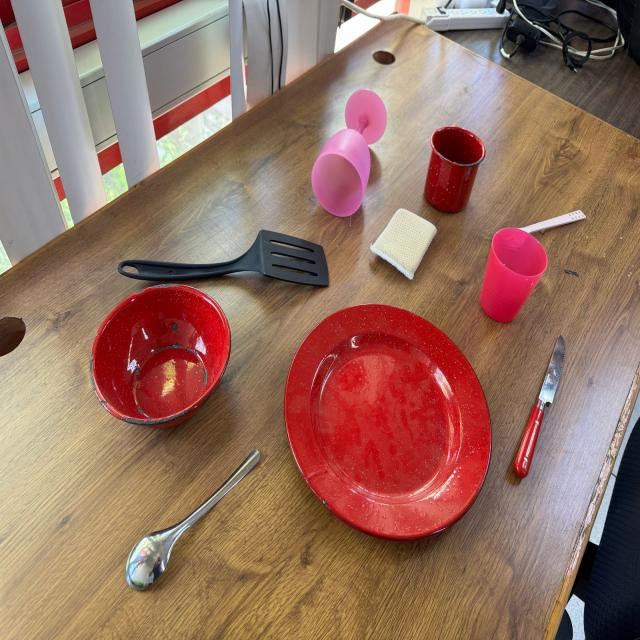cup: (424, 124, 486, 215)
fork: (510, 210, 587, 239)
glass: (479, 227, 549, 326)
knife: (514, 334, 567, 482)
plate: (284, 303, 493, 539)
spatula: (115, 230, 330, 292)
sponge: (372, 208, 437, 279)
spoon: (124, 447, 264, 590)
tazon: (88, 284, 233, 426)
wineglass: (309, 88, 391, 219)
